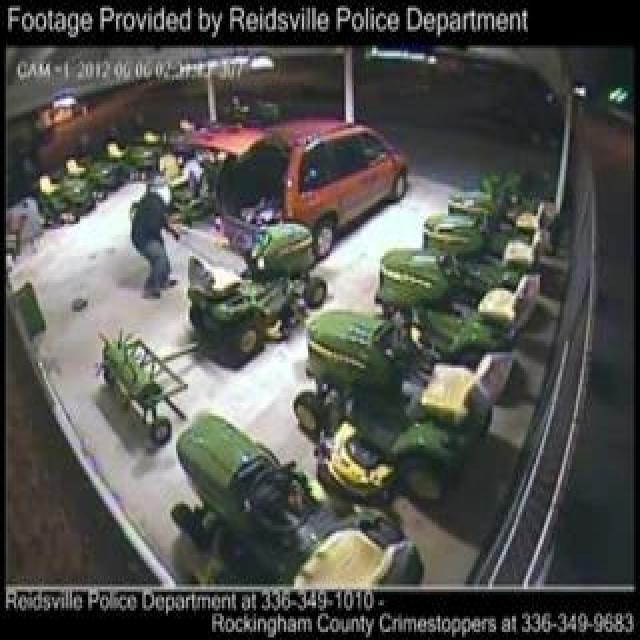thief: (109, 177, 187, 315)
